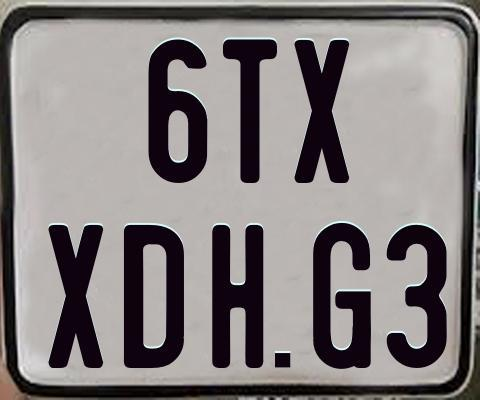3: (386, 225, 449, 374)
6: (147, 39, 208, 185)
D: (123, 224, 189, 371)
G: (312, 221, 375, 370)
H: (212, 223, 264, 369)
T: (223, 38, 277, 184)
X: (292, 40, 351, 187), (47, 225, 106, 368)
